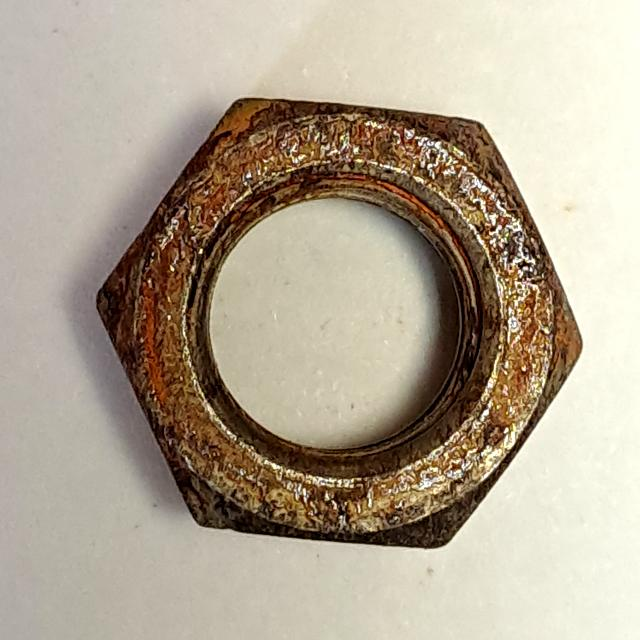Rust: (81, 79, 598, 578)
